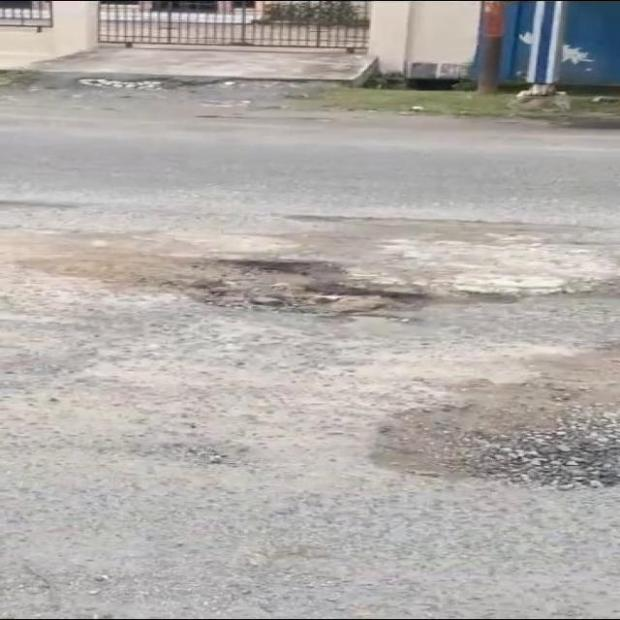lubang: (372, 351, 619, 487), (168, 259, 425, 321)
